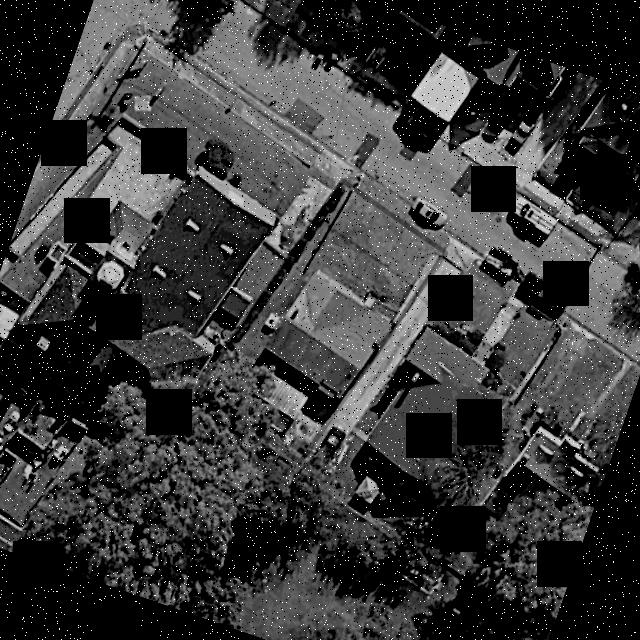Driveway: (331, 257, 459, 433)
Extra Driveway: (446, 235, 479, 268)
Extra Lawn: (354, 172, 450, 247)
House: (262, 267, 391, 398)
